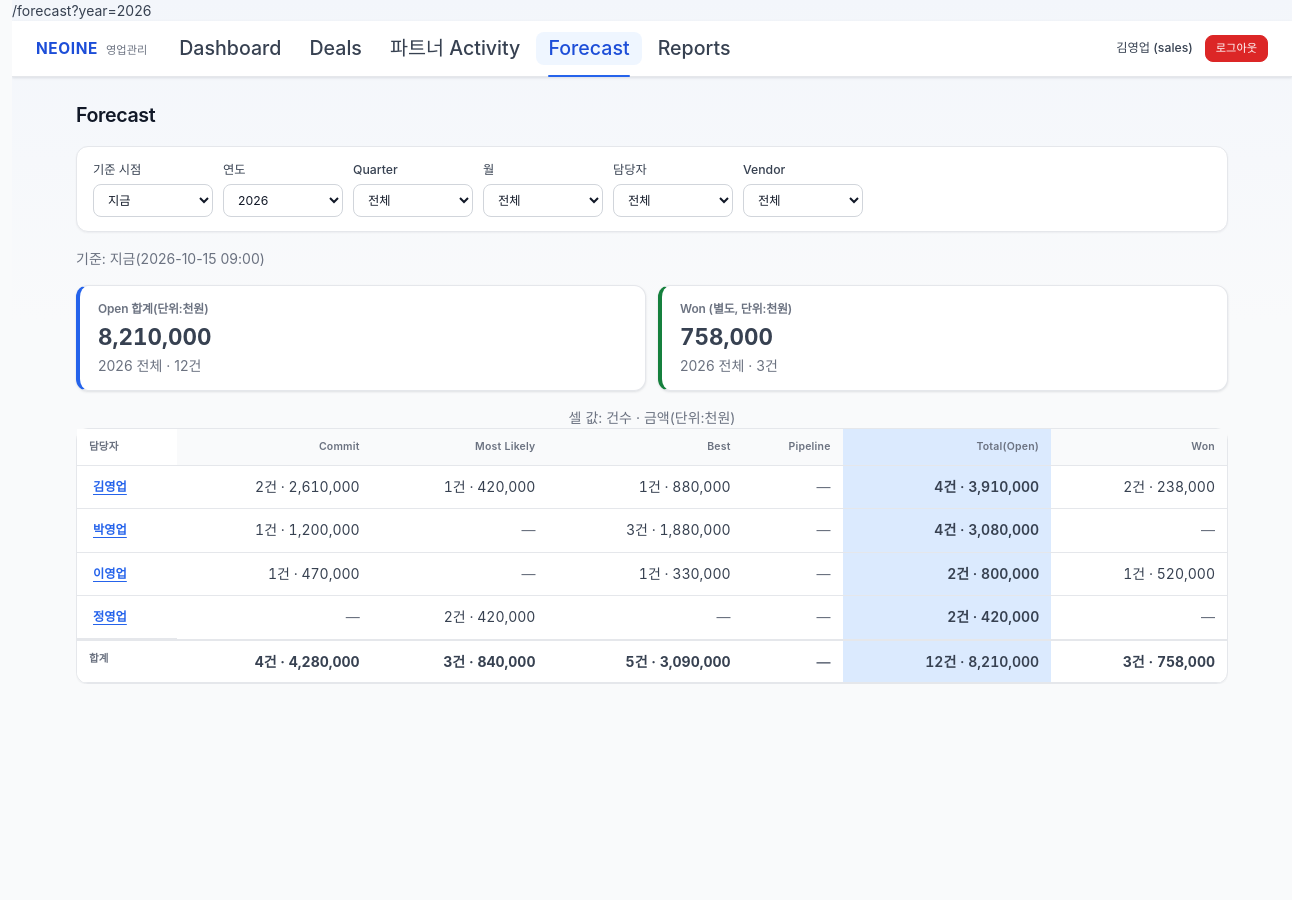
Test: 담당자 선택: 같은 화면 아래 Deal 목록 › T-FC-05 담당자를 누르면 같은 화면 아래에 그 담당자의 Deal 목록과 Deal 상세 링크가 나온다
Expected: the element "선택한 담당자" is not shown
Step 1. Click the button "김영업" → (110, 487), box [89, 476, 131, 498]
(page scrolled)
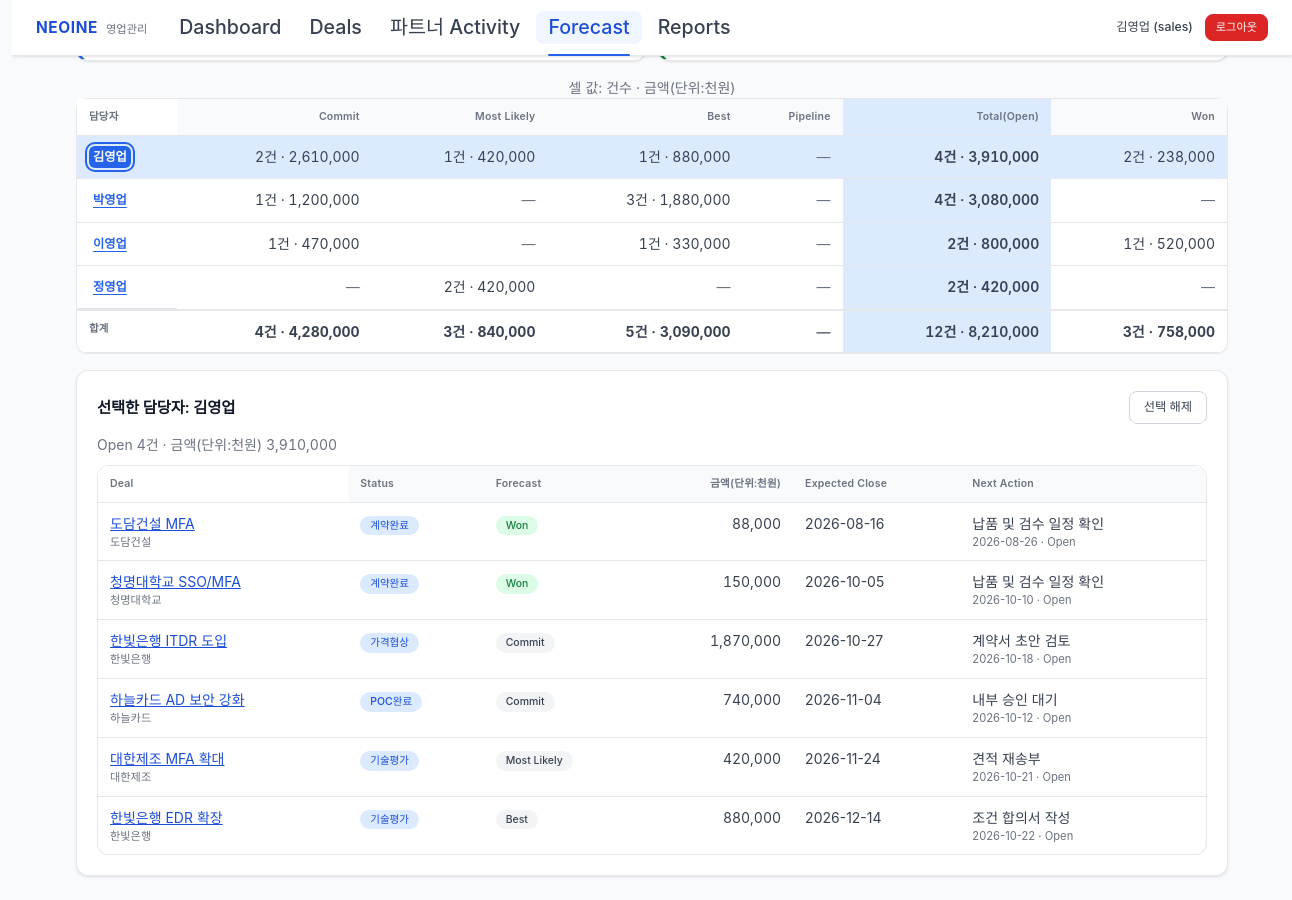
Expected: the column heading "합계" is shown, [77, 310, 176, 354]
Expected: the column headings read "Deal", "Status", "Forecast", "금액(단위:천원)", "Expected Close", "Next Action", in this order, [98, 466, 348, 503]; [348, 466, 484, 503]; [484, 466, 643, 503]; [643, 466, 793, 503]; [793, 466, 960, 503]; [960, 466, 1206, 503]
